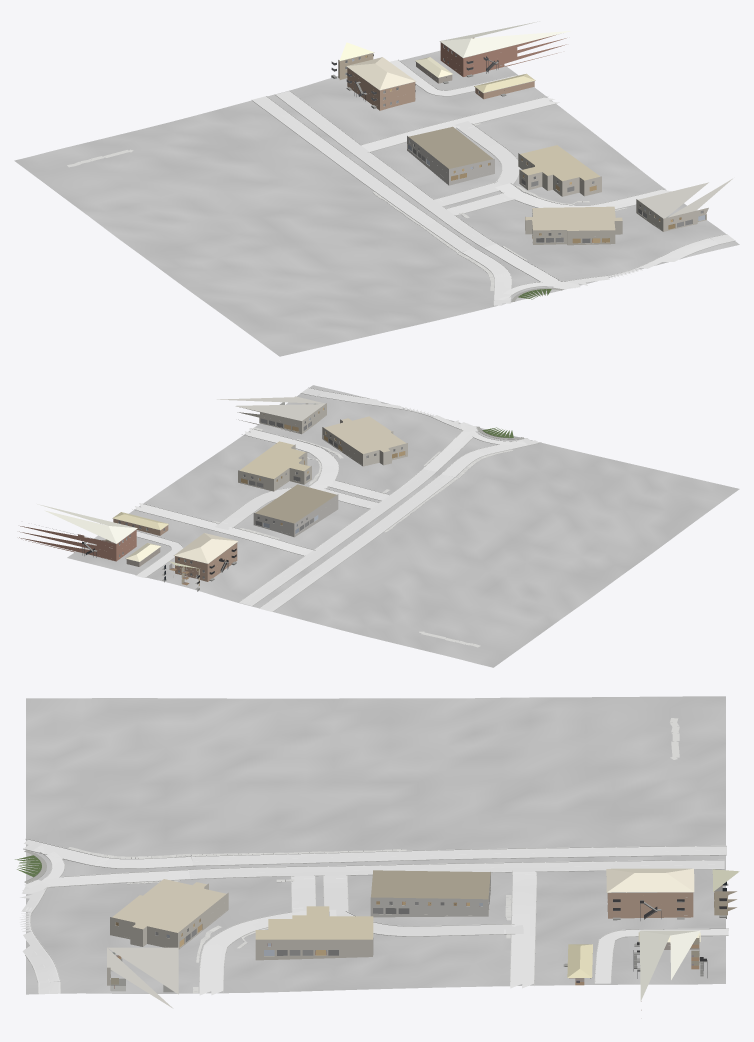
3 renders of one model, top to bottom at view 1: azimuth 30°, elevation 25°; view 2: azimuth 150°, elevation 25°; view 3: azimuth 270°, elevation 25°, orthographic. The views are drawn at different scales.
Visible parts, largest first — view 1: ground, asphalt, roof_flat, concrete, wall_com, roof, wall, curb, detail, walk, mark_w, glass; view 2: ground, asphalt, roof_flat, concrete, wall_com, roof, wall, curb, detail, walk, glass, mark_w; view 3: ground, asphalt, roof_flat, concrete, wall_com, roof, curb, wall, walk, detail, mark_w, room (+2 smaller).
Boxes of the visible parts, bbox=[...] form: ground: bbox=[14, 50, 739, 356]; asphalt: bbox=[252, 91, 734, 305]; roof_flat: bbox=[409, 126, 732, 230]; concrete: bbox=[361, 60, 671, 215]; wall_com: bbox=[407, 136, 708, 245]; roof: bbox=[339, 21, 570, 92]; wall: bbox=[338, 35, 566, 110]; curb: bbox=[251, 59, 735, 306]; detail: bbox=[331, 38, 705, 301]; walk: bbox=[67, 123, 626, 290]; mark_w: bbox=[253, 91, 729, 305]; glass: bbox=[345, 45, 702, 242]; ground: bbox=[67, 385, 739, 667]; asphalt: bbox=[239, 388, 538, 611]; roof_flat: bbox=[217, 396, 405, 523]; concrete: bbox=[135, 428, 388, 577]; wall_com: bbox=[237, 403, 407, 537]; roof: bbox=[37, 504, 238, 568]; wall: bbox=[19, 519, 237, 586]; curb: bbox=[132, 387, 541, 611]; detail: bbox=[39, 403, 524, 591]; walk: bbox=[213, 427, 513, 647]; glass: bbox=[118, 414, 402, 578]; mark_w: bbox=[221, 390, 516, 611]; ground: bbox=[26, 696, 725, 994]; asphalt: bbox=[20, 839, 726, 994]; roof_flat: bbox=[107, 870, 490, 1008]; concrete: bbox=[199, 871, 728, 995]; wall_com: bbox=[107, 872, 490, 985]; roof: bbox=[567, 868, 739, 1001]; curb: bbox=[23, 838, 728, 993]; wall: bbox=[607, 891, 736, 1010]; walk: bbox=[68, 718, 679, 993]; detail: bbox=[15, 850, 728, 990]; mark_w: bbox=[25, 839, 726, 993]; room: bbox=[110, 885, 722, 992].
Bounding box in the file's own units: 286 × 18.71 × 259.
